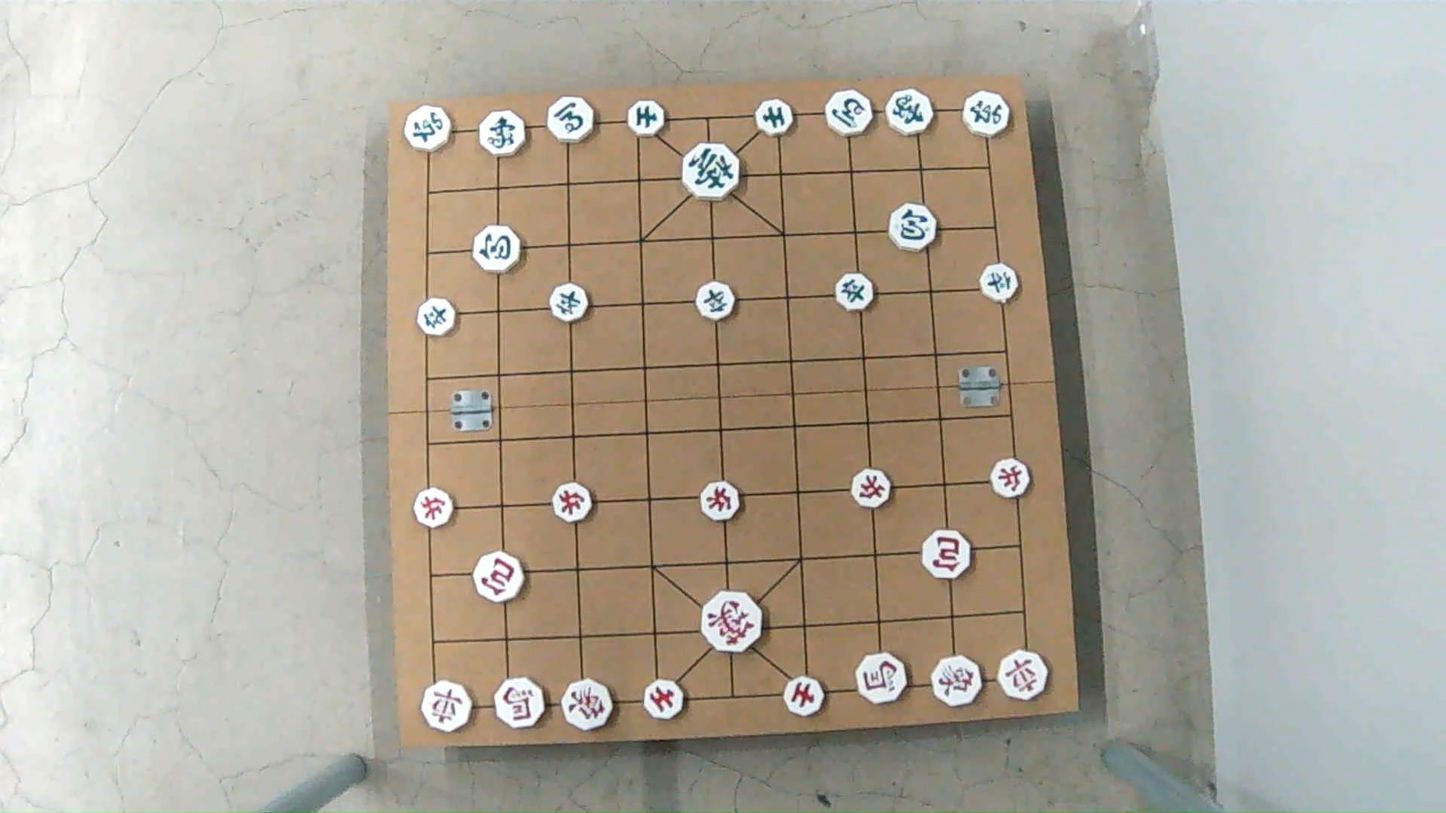cha_green: (962, 90, 1011, 137), (404, 108, 455, 151)
cha_red: (422, 681, 474, 733), (996, 653, 1050, 699)
jol_green: (696, 281, 739, 317), (981, 266, 1025, 301), (832, 276, 878, 309), (548, 283, 590, 318), (414, 301, 457, 335)
jol_red: (699, 484, 743, 520), (412, 488, 456, 524), (850, 472, 895, 507), (548, 486, 593, 521), (989, 461, 1031, 496)
ma_green: (545, 99, 596, 142), (823, 94, 875, 136)
ma_red: (494, 678, 550, 727), (855, 653, 909, 700)
po_green: (471, 230, 524, 273), (890, 207, 942, 250)
po_red: (470, 557, 524, 602), (920, 532, 973, 577)
sa_green: (626, 102, 666, 136), (755, 102, 795, 134)
sa_red: (781, 676, 827, 714), (640, 683, 685, 720)
sang_green: (884, 90, 938, 132), (478, 114, 529, 156)
sang_red: (931, 657, 987, 706), (560, 682, 616, 729)
wang_green: (682, 147, 741, 199)
wang_red: (700, 592, 767, 647)
